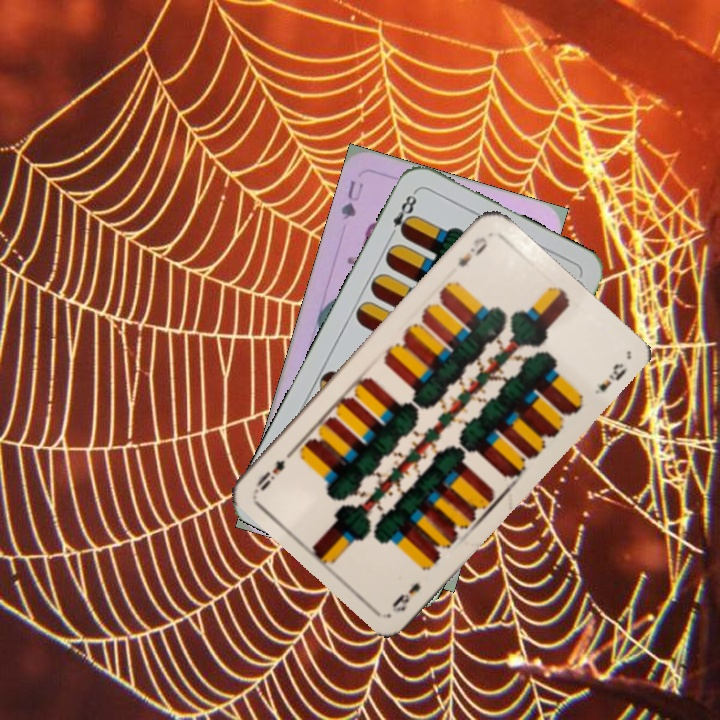E8: (385, 187, 420, 242)
E9: (453, 232, 491, 270), (388, 579, 423, 615)
GU: (337, 176, 366, 222)
